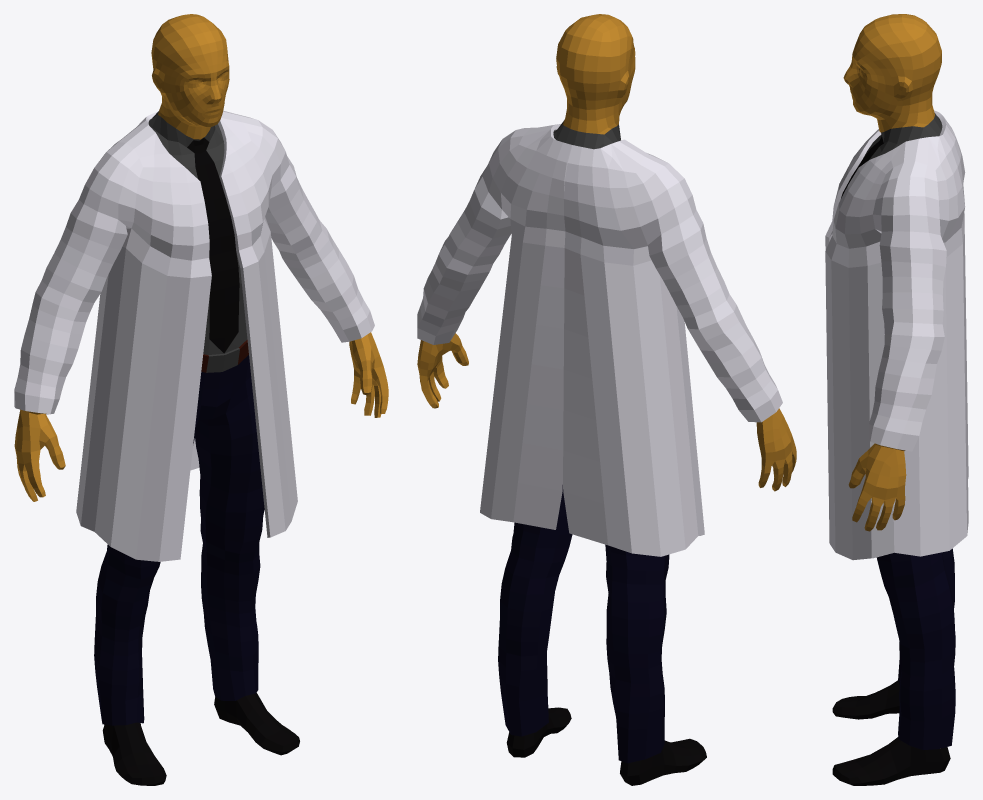
Rendered from scientist.FBX.
3 renders of one model, left to right at view 1: azimuth 30°, elevation 25°; view 2: azimuth 150°, elevation 25°; view 3: azimuth 270°, elevation 25°, orthographic.
Parts seen in each view (by area): view 1: Objactcoat001, Objact00102; view 2: Objactcoat001, Objact00102; view 3: Objactcoat001, Objact00102.
Part boxes in pixels (x1,y1,x2,y2): Objactcoat001: (14, 110, 374, 561); Objact00102: (14, 14, 388, 785); Objactcoat001: (417, 124, 782, 556); Objact00102: (417, 14, 796, 785); Objactcoat001: (825, 110, 968, 560); Objact00102: (832, 14, 955, 785).
Bounding box in the file's own units: 37.23 × 71.89 × 12.79.
